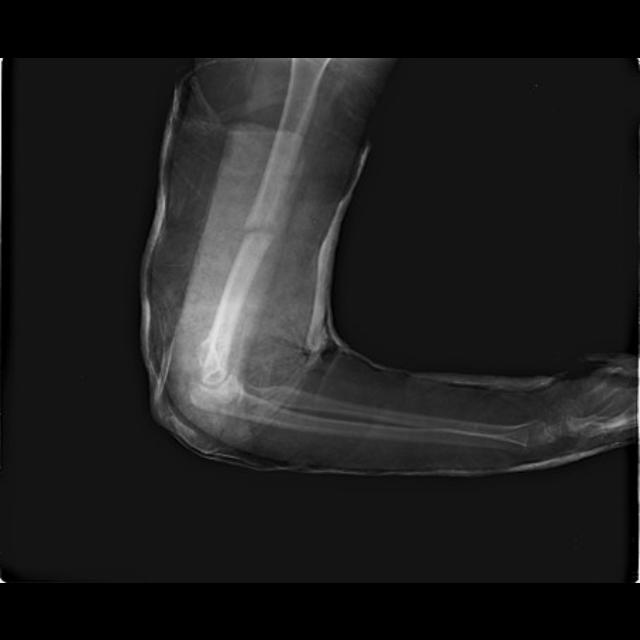Fracture: (238, 216, 287, 243)
